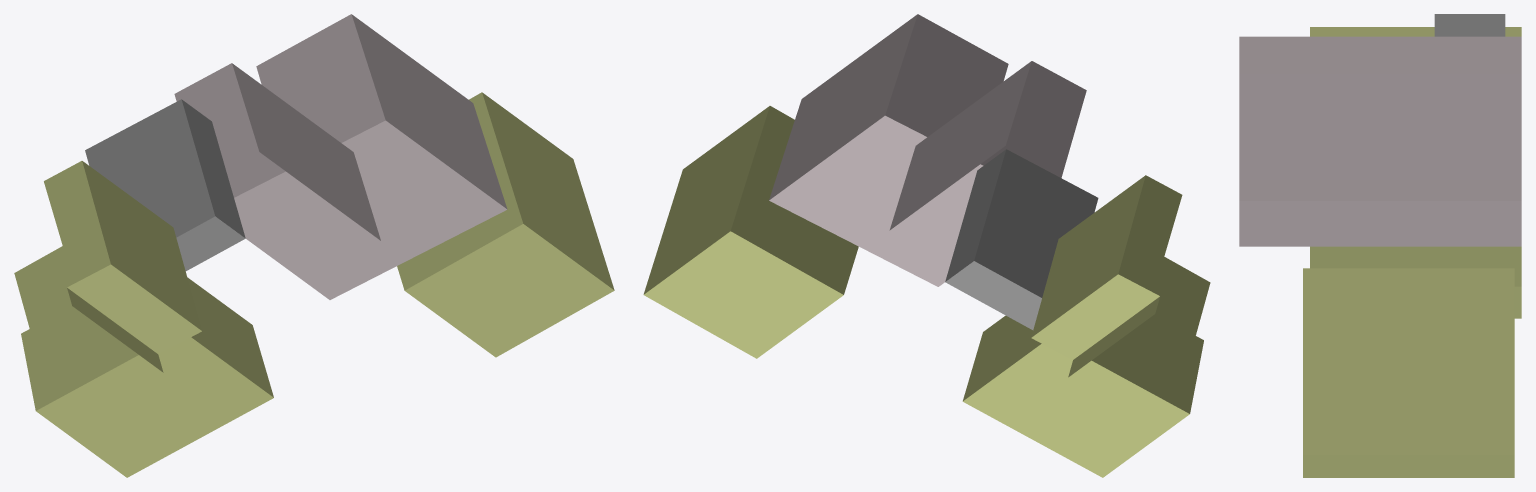
3 renders of one model, left to right at view 1: azimuth 30°, elevation 25°; view 2: azimuth 150°, elevation 25°; view 3: azimuth 270°, elevation 25°, orthographic. The views are drawn at different scales.
Parts seen in each view (by area): view 1: 0_1_0_0_1_0_2_0_1_1; view 2: 0_1_0_0_1_0_2_0_1_1; view 3: 0_1_0_0_1_0_2_0_1_1.
Boxes of the visible parts, x1=… form: 0_1_0_0_1_0_2_0_1_1: x1=14, y1=14, x2=614, y2=477; 0_1_0_0_1_0_2_0_1_1: x1=643, y1=14, x2=1210, y2=477; 0_1_0_0_1_0_2_0_1_1: x1=1239, y1=14, x2=1521, y2=477.
Size of the model in its own units: 28.78 by 17.4 by 12.
